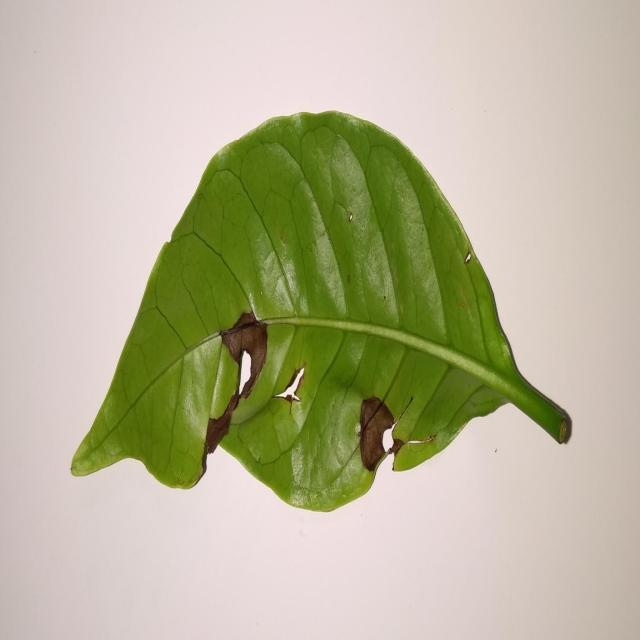Enfermedad-Antracnosis: (69, 111, 572, 516)
